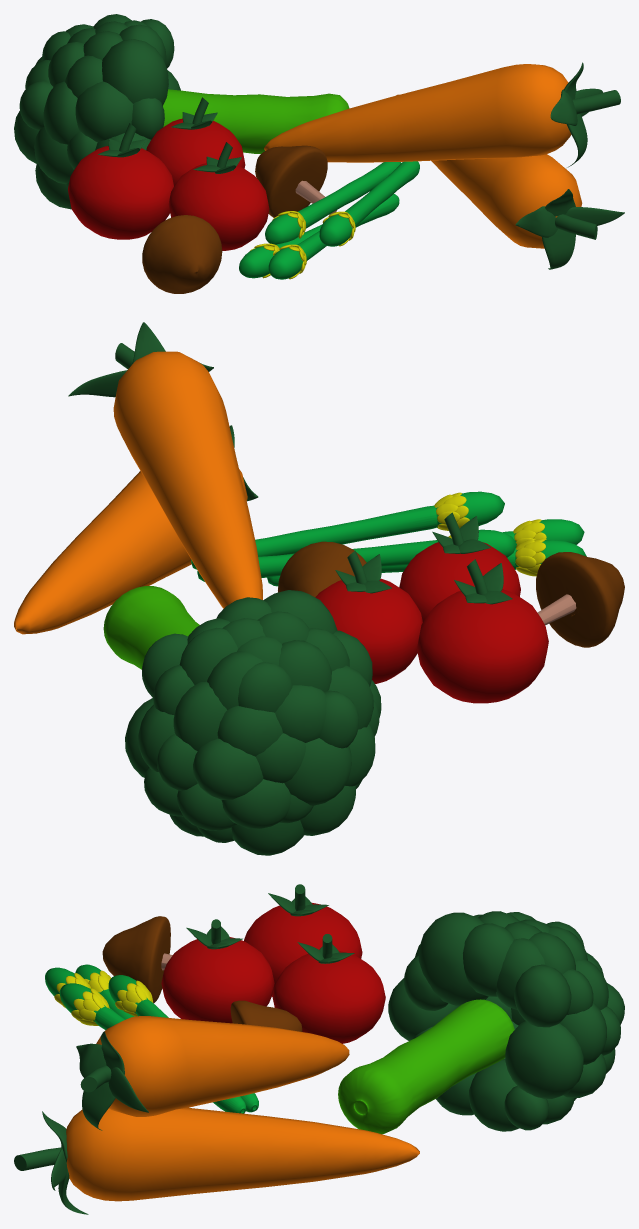
File: vegetables.fbx
The picture shows the model from 3 angles, top to bottom: view 1: azimuth 30°, elevation 25°; view 2: azimuth 150°, elevation 25°; view 3: azimuth 270°, elevation 25°; orthographic projection. The views are drawn at different scales.
Visible parts, largest first — view 1: nurbsToPoly5, pSphere1 (×3), nurbsToPoly10, polySurface2, nurbsToPoly11, nurbsToPoly12, polySurface5, polySurface32, polySurface83, polySurface17, polySurface47, pCylinder4 (×2) (+26 smaller); view 2: pSphere1 (×3), nurbsToPoly5, nurbsToPoly10, nurbsToPoly11, polySurface2, polySurface47, polySurface9, polySurface44, nurbsToPoly12, polySurface4, polySurface40, polySurface15 (+29 smaller); view 3: nurbsToPoly10, pSphere1 (×3), nurbsToPoly5, polySurface2, polySurface23, polySurface5, nurbsToPoly11, polySurface24, polySurface27, polySurface25, polySurface6, polySurface28 (+21 smaller).
Boxes of the visible parts, x1=… form: nurbsToPoly5: x1=264, y1=64, x2=571, y2=162; pSphere1 (×3): x1=68, y1=118, x2=269, y2=250; nurbsToPoly10: x1=396, y1=94, x2=582, y2=248; polySurface2: x1=163, y1=89, x2=349, y2=153; nurbsToPoly11: x1=142, y1=215, x2=222, y2=293; nurbsToPoly12: x1=255, y1=145, x2=327, y2=217; polySurface5: x1=102, y1=39, x2=168, y2=105; polySurface32: x1=75, y1=81, x2=133, y2=142; polySurface83: x1=297, y1=162, x2=400, y2=228; polySurface17: x1=43, y1=81, x2=79, y2=144; polySurface47: x1=345, y1=161, x2=419, y2=226; pCylinder4 (×2): x1=555, y1=90, x2=620, y2=239; pSphere1 (×3): x1=315, y1=542, x2=548, y2=703; nurbsToPoly5: x1=113, y1=351, x2=262, y2=608; nurbsToPoly10: x1=14, y1=469, x2=247, y2=634; nurbsToPoly11: x1=536, y1=552, x2=624, y2=647; polySurface2: x1=103, y1=586, x2=199, y2=669; polySurface47: x1=191, y1=505, x2=437, y2=569; polySurface9: x1=193, y1=738, x2=263, y2=799; polySurface44: x1=284, y1=738, x2=351, y2=805; nurbsToPoly12: x1=278, y1=541, x2=366, y2=596; polySurface4: x1=173, y1=681, x2=226, y2=750; polySurface40: x1=221, y1=779, x2=290, y2=828; polySurface15: x1=217, y1=706, x2=282, y2=756; nurbsToPoly10: x1=66, y1=1107, x2=419, y2=1201; pSphere1 (×3): x1=161, y1=903, x2=385, y2=1043; nurbsToPoly5: x1=96, y1=1016, x2=349, y2=1116; polySurface2: x1=338, y1=999, x2=514, y2=1134; polySurface23: x1=505, y1=1021, x2=583, y2=1098; polySurface5: x1=418, y1=912, x2=488, y2=1006; nurbsToPoly11: x1=102, y1=916, x2=170, y2=1003; polySurface24: x1=514, y1=964, x2=571, y2=1027; polySurface27: x1=463, y1=923, x2=514, y2=996; polySurface25: x1=468, y1=1059, x2=519, y2=1131; polySurface6: x1=388, y1=978, x2=458, y2=1040; polySurface28: x1=496, y1=938, x2=544, y2=1010.
Bounding box in the file's own units: 5.72 × 2.57 × 6.16.
